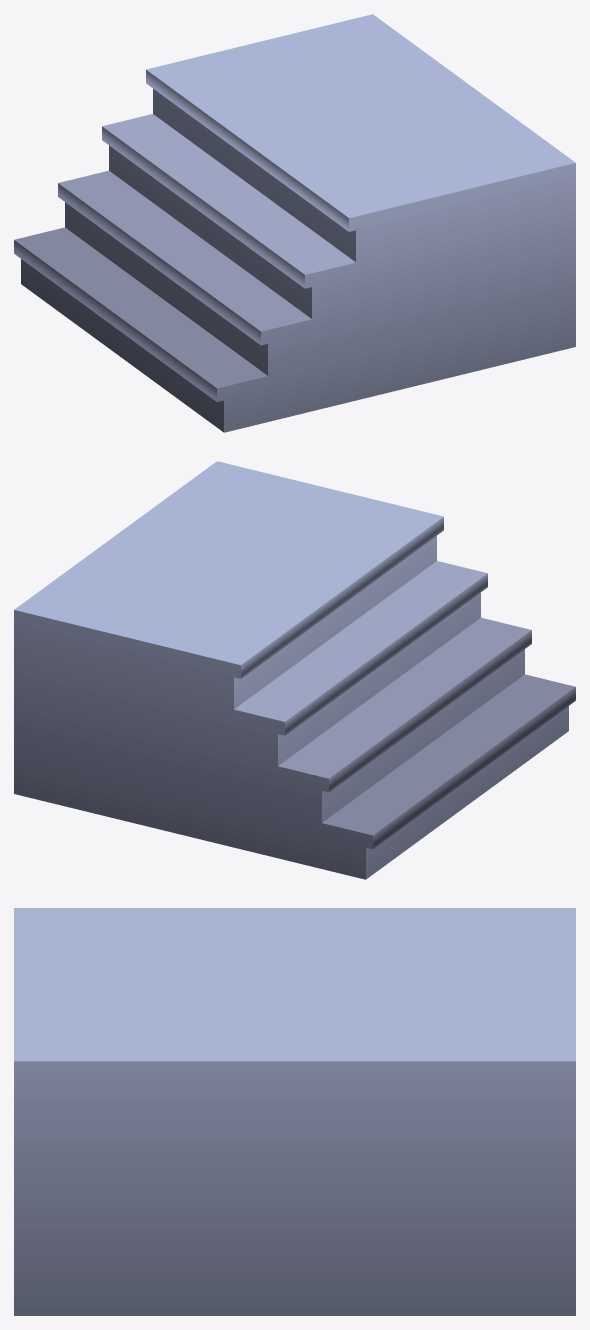
Rendered from stairs-full.glb.
3 renders of one model, top to bottom at view 1: azimuth 30°, elevation 25°; view 2: azimuth 150°, elevation 25°; view 3: azimuth 270°, elevation 25°, orthographic. The views are drawn at different scales.
Visible parts, largest first — view 1: stairs-full; view 2: stairs-full; view 3: stairs-full.
Part boxes in pixels (x1,y1,x2,y2): stairs-full: [14, 14, 575, 432]; stairs-full: [14, 461, 575, 879]; stairs-full: [14, 908, 575, 1315].
Bounding box in the file's own units: 1.02 × 0.5 × 1.
1 material, 1 textured.
